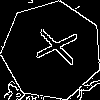X: (27, 26, 78, 66)
